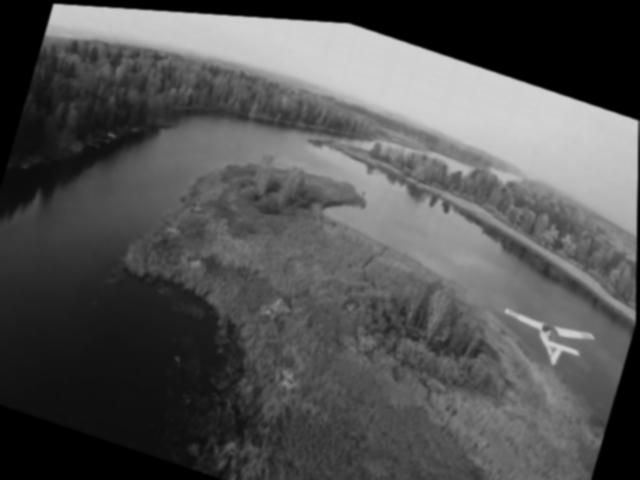hedef: (486, 291, 595, 369)
